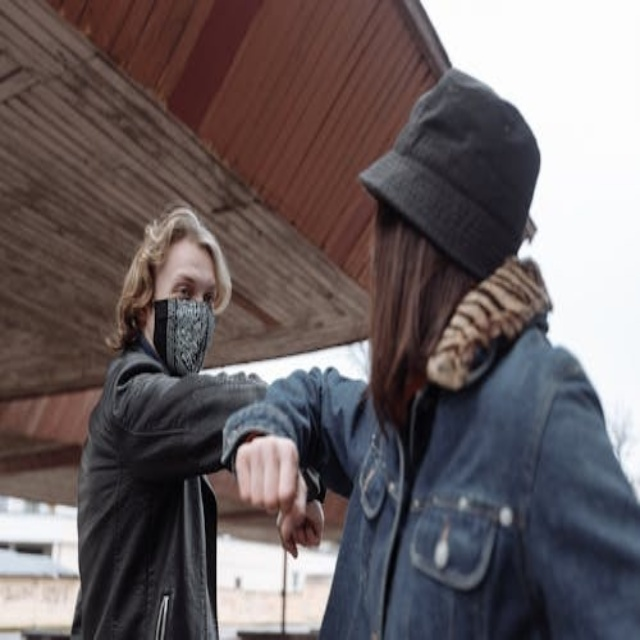Mascara: (151, 298, 214, 376)
Sin_gafas: (160, 259, 220, 311)
Sin_guantes: (230, 431, 306, 505), (275, 488, 332, 563)
